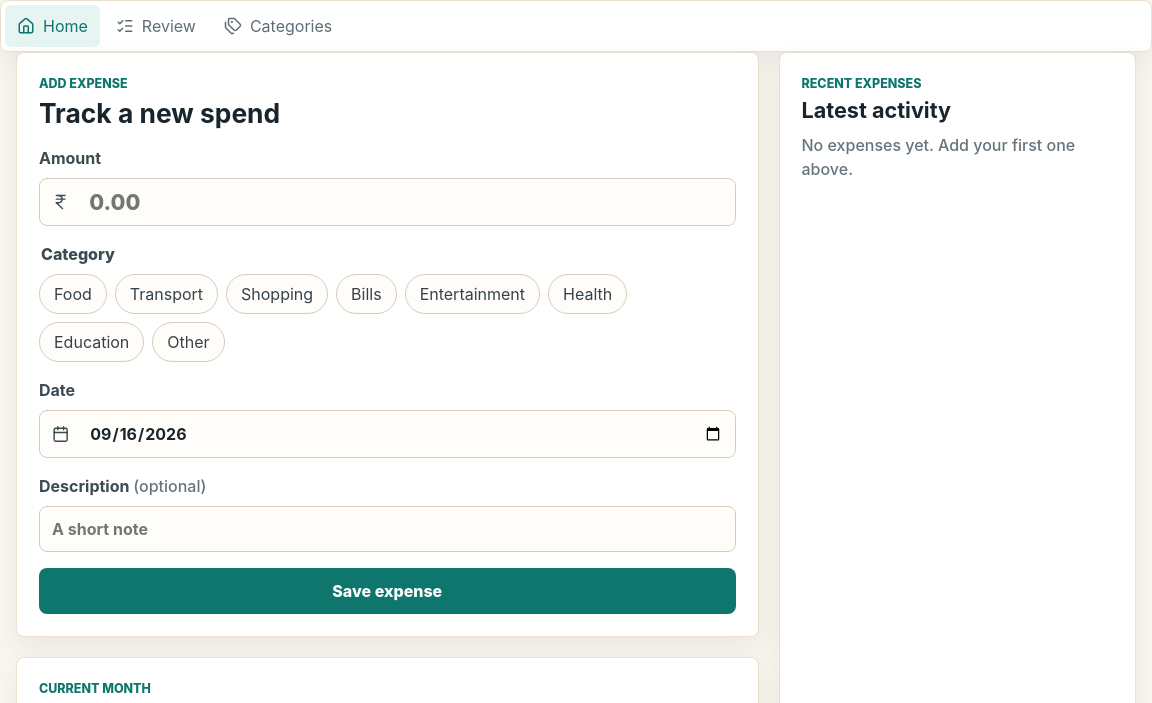
Scenario: Home shell › prevents saving with a missing amount and keeps entered values
Click the button "Food": (73,294) [39,274,107,314]
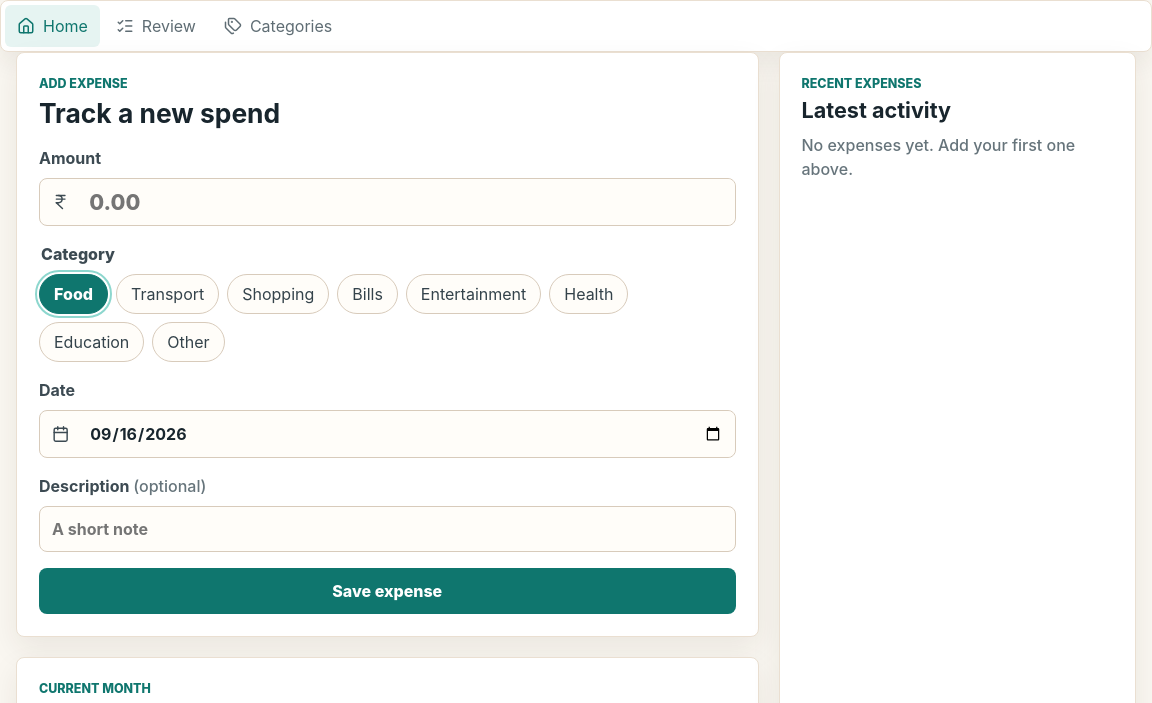
In the field labelled "Description (optional)": (387,529) [39,506,736,552], type "Lunch"
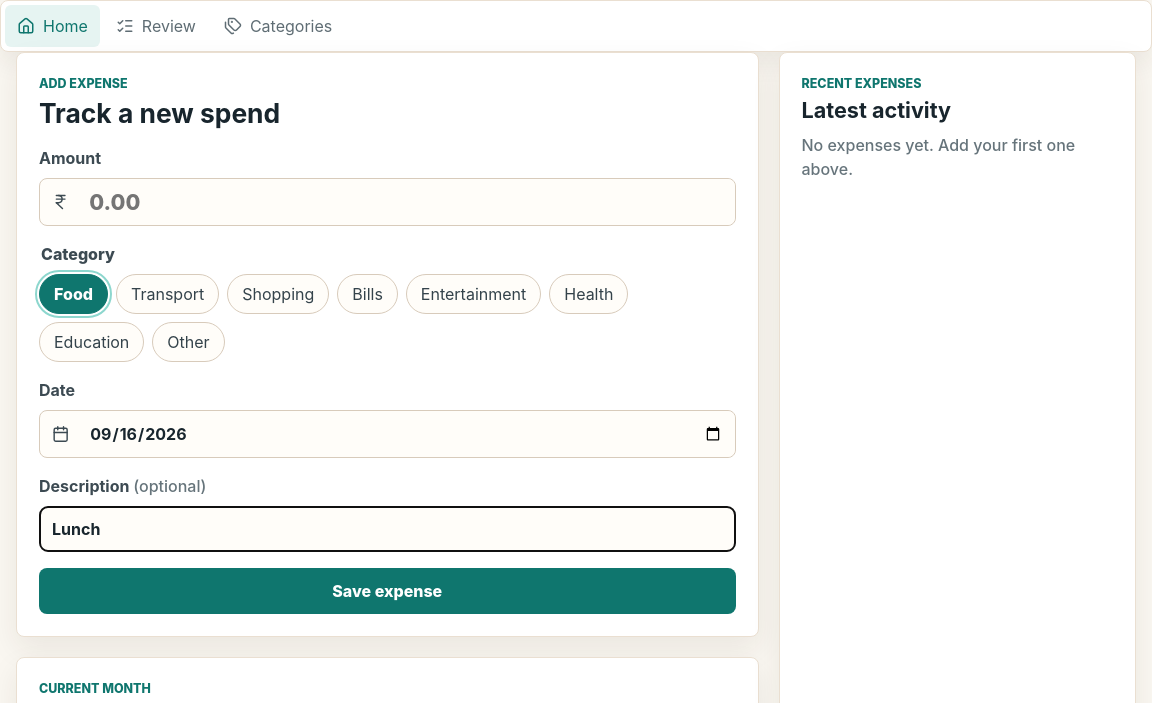
Click the button "Save expense": (387,591) [39,568,736,614]
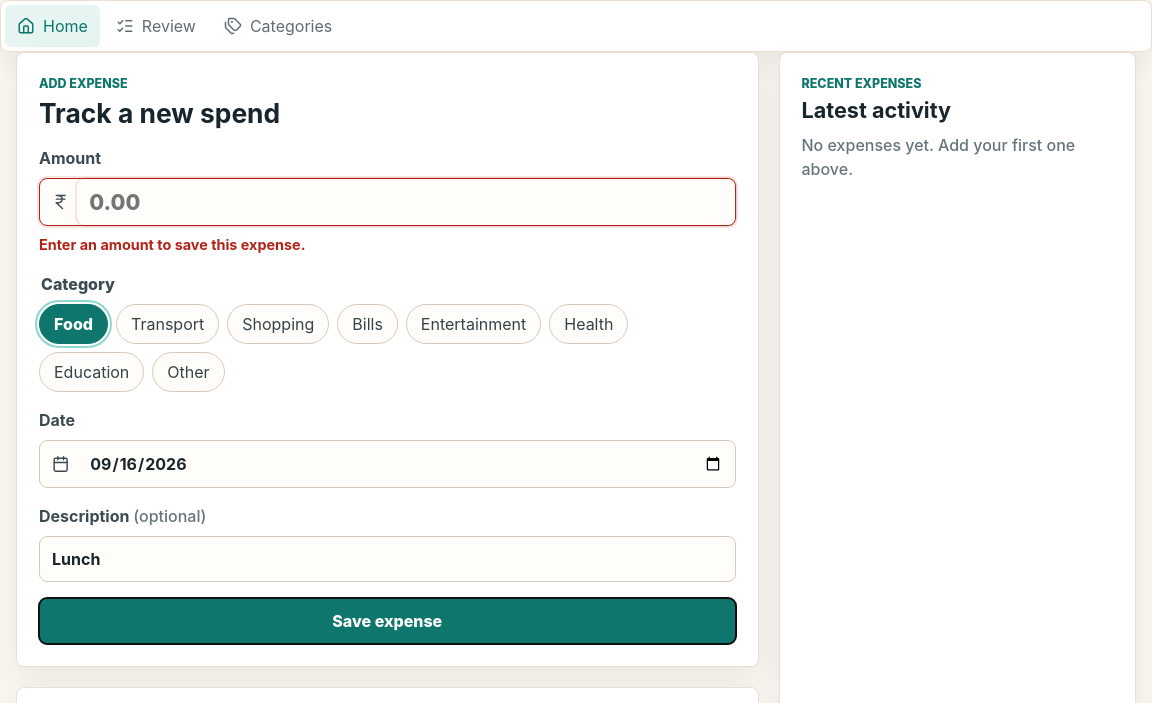
Expected: the text "Enter an amount to save this expense." is shown, [39,236,306,253]
